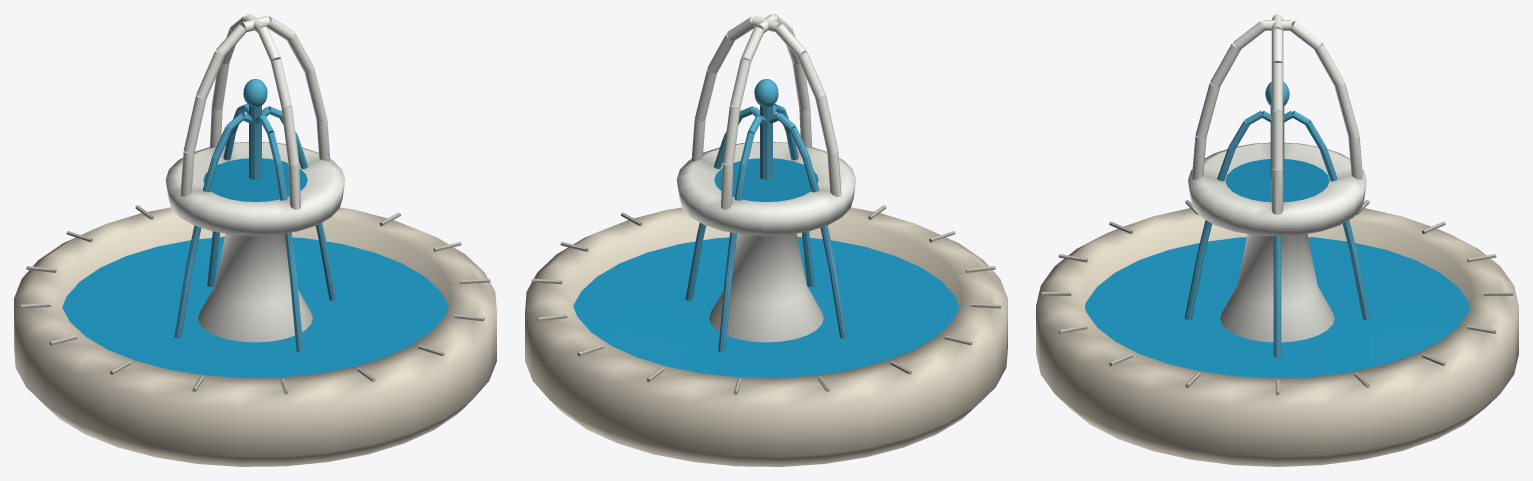
Rendered from fountain.glb.
The picture shows the model from 3 angles, left to right: view 1: azimuth 30°, elevation 25°; view 2: azimuth 150°, elevation 25°; view 3: azimuth 270°, elevation 25°; orthographic projection.
Visible parts, largest first — view 1: stone basin, pool, fountain stem, water jet, basin segment seam; view 2: stone basin, pool, fountain stem, water jet, basin segment seam; view 3: stone basin, pool, fountain stem, water jet, basin segment seam.
Boxes of the visible parts, x1,y1,x2,y2 form: stone basin: (14, 207, 496, 466); pool: (62, 158, 448, 377); fountain stem: (165, 14, 345, 342); water jet: (174, 79, 336, 352); basin segment seam: (20, 205, 490, 394); stone basin: (525, 207, 1007, 466); pool: (573, 158, 959, 377); fountain stem: (676, 14, 856, 342); water jet: (685, 79, 847, 352); basin segment seam: (531, 205, 1001, 394); stone basin: (1036, 208, 1518, 466); pool: (1085, 159, 1469, 378); fountain stem: (1188, 14, 1366, 342); water jet: (1184, 82, 1370, 357); basin segment seam: (1041, 200, 1513, 395).
Size of the model in its own units: 1.78 by 1.43 by 1.78.
